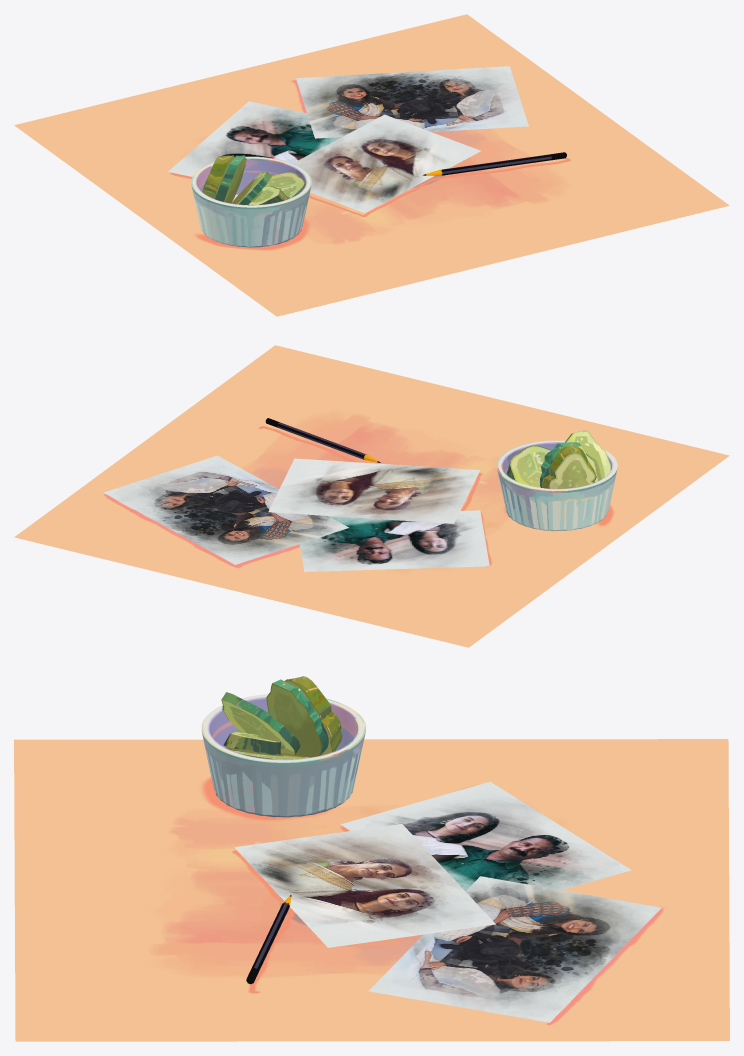
File: pickles_3d_version_of_hyuna_lees_illustration-transformed.glb
3 views of the same model, one above another, from view 1: azimuth 30°, elevation 25°; view 2: azimuth 150°, elevation 25°; view 3: azimuth 270°, elevation 25° (orthographic). The views are drawn at different scales.
Parts seen in each view (by area): view 1: Object_4.001, Plane.002, Plane, Object_6, Plane.001, Cylinder; view 2: Object_4.001, Plane.002, Plane, Object_6, Plane.001, Cylinder; view 3: Object_4.001, Plane.002, Plane, Object_6, Plane.001, Cylinder.
Part boxes in pixels (x1,y1,x2,y2): Object_4.001: [14, 14, 729, 316]; Plane.002: [296, 66, 528, 138]; Plane: [293, 114, 480, 212]; Object_6: [191, 155, 311, 247]; Plane.001: [168, 101, 341, 176]; Cylinder: [423, 152, 566, 175]; Object_4.001: [14, 345, 729, 647]; Plane.002: [103, 455, 348, 564]; Plane: [268, 458, 480, 523]; Object_6: [497, 430, 617, 531]; Plane.001: [299, 510, 489, 571]; Cylinder: [265, 418, 380, 462]; Object_4.001: [14, 739, 729, 1041]; Plane.002: [368, 876, 661, 1022]; Plane: [234, 824, 495, 947]; Object_6: [201, 676, 365, 817]; Plane.001: [340, 781, 631, 891]; Cylinder: [246, 895, 291, 984].
Size of the model in its own units: 0.6205 by 0.0927 by 0.6205.
Materials: 8 (5 with a texture image).
